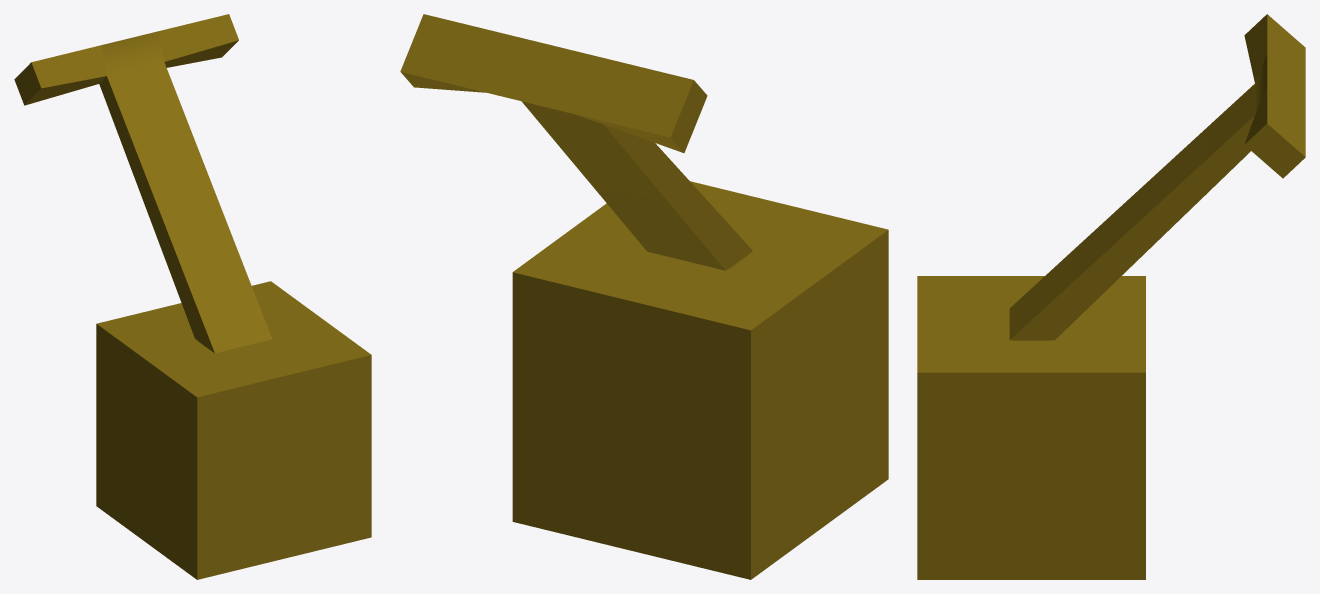
The model's file is level_idol.fbx.
3 renders of one model, left to right at view 1: azimuth 30°, elevation 25°; view 2: azimuth 150°, elevation 25°; view 3: azimuth 270°, elevation 25°, orthographic. The views are drawn at different scales.
Parts seen in each view (by area): view 1: polySurface2, polySurface3; view 2: polySurface2, polySurface3; view 3: polySurface2, polySurface3.
Part boxes in pixels (x1,y1,x2,y2): polySurface2: (96, 281, 371, 579); polySurface3: (14, 14, 271, 353); polySurface2: (512, 181, 888, 579); polySurface3: (400, 14, 752, 270); polySurface2: (917, 276, 1145, 579); polySurface3: (1009, 14, 1305, 340).
Bounding box in the file's own units: 1.13 × 2.23 × 1.7.
